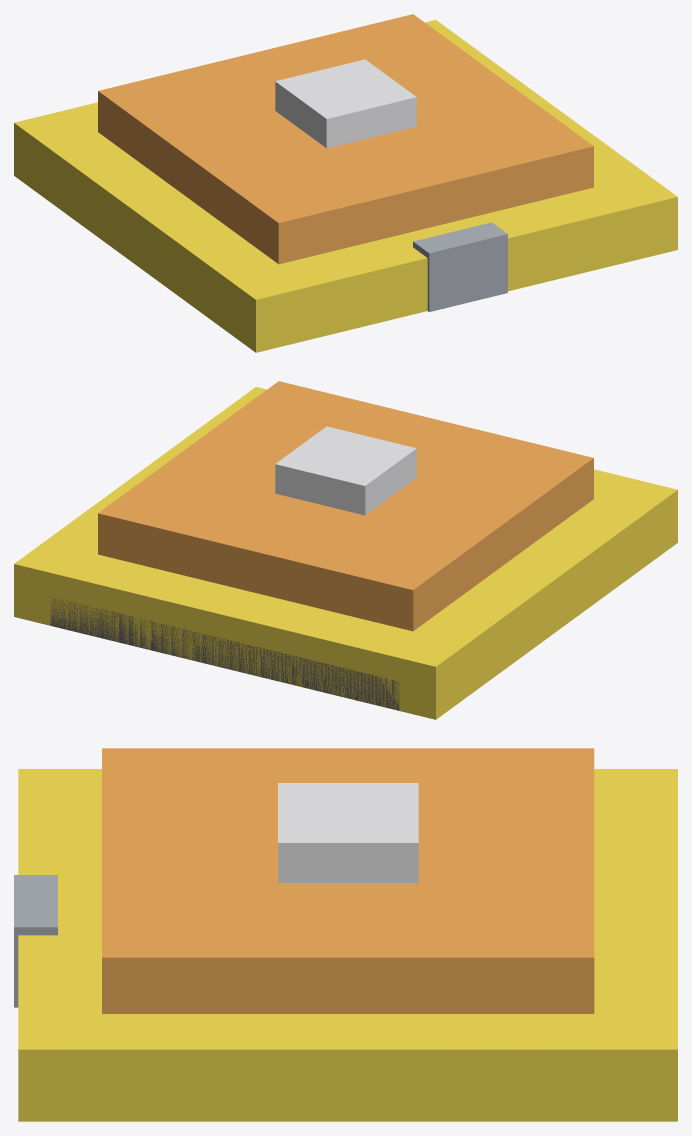
The model's file is gamble_box_lid.glb.
The picture shows the model from 3 angles, top to bottom: view 1: azimuth 30°, elevation 25°; view 2: azimuth 150°, elevation 25°; view 3: azimuth 270°, elevation 25°; orthographic projection. The views are drawn at different scales.
Parts seen in each view (by area): view 1: gamble_box_lid; view 2: gamble_box_lid; view 3: gamble_box_lid.
Boxes of the visible parts, x1,y1,x2,y2 form: gamble_box_lid: (14,14,677,352); gamble_box_lid: (14,381,677,719); gamble_box_lid: (14,748,677,1121).
Bounding box in the file's own units: 0.75 × 0.21 × 0.75.
